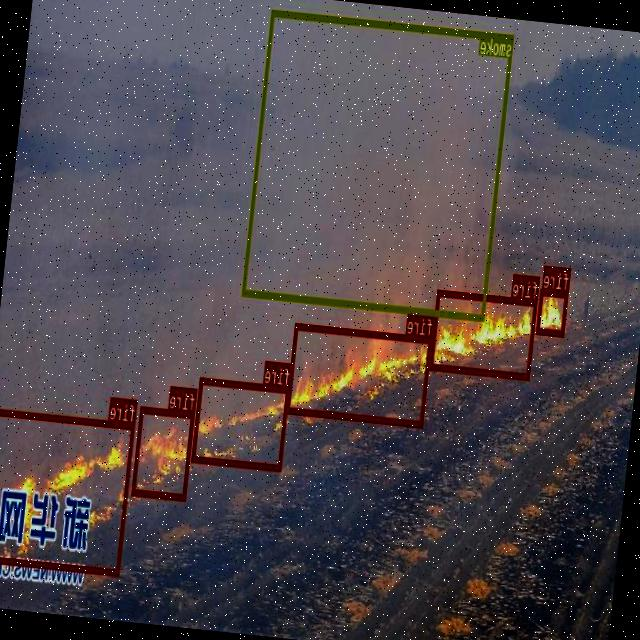fire: (0, 407, 136, 574), (286, 321, 432, 426), (429, 288, 538, 379), (192, 376, 290, 471), (132, 406, 195, 500), (536, 287, 569, 336)
smoke: (242, 8, 514, 320)
